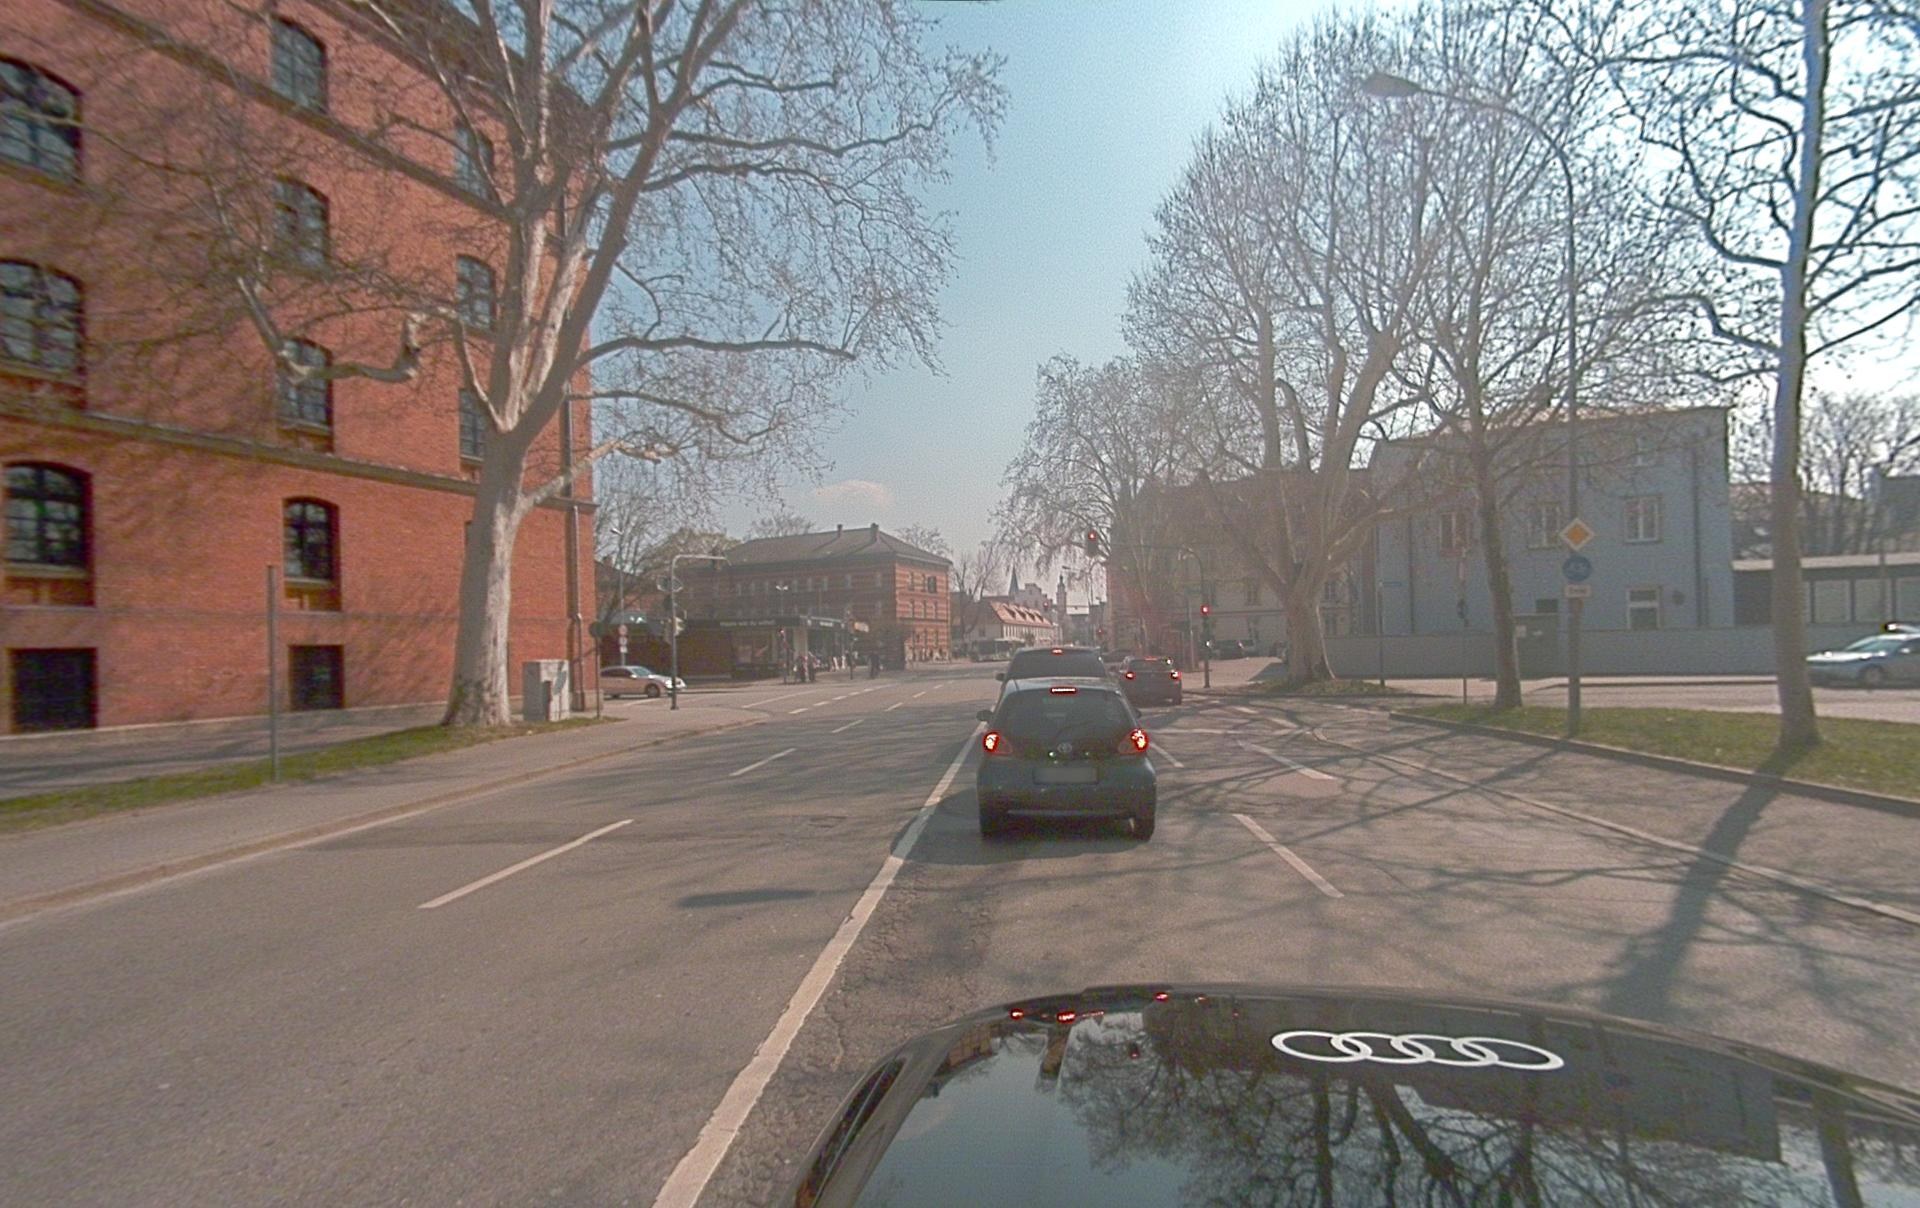car: (788, 981, 1919, 1207), (976, 676, 1157, 841), (1805, 624, 1920, 689), (1000, 644, 1111, 682), (1118, 655, 1183, 707), (599, 665, 687, 698)
